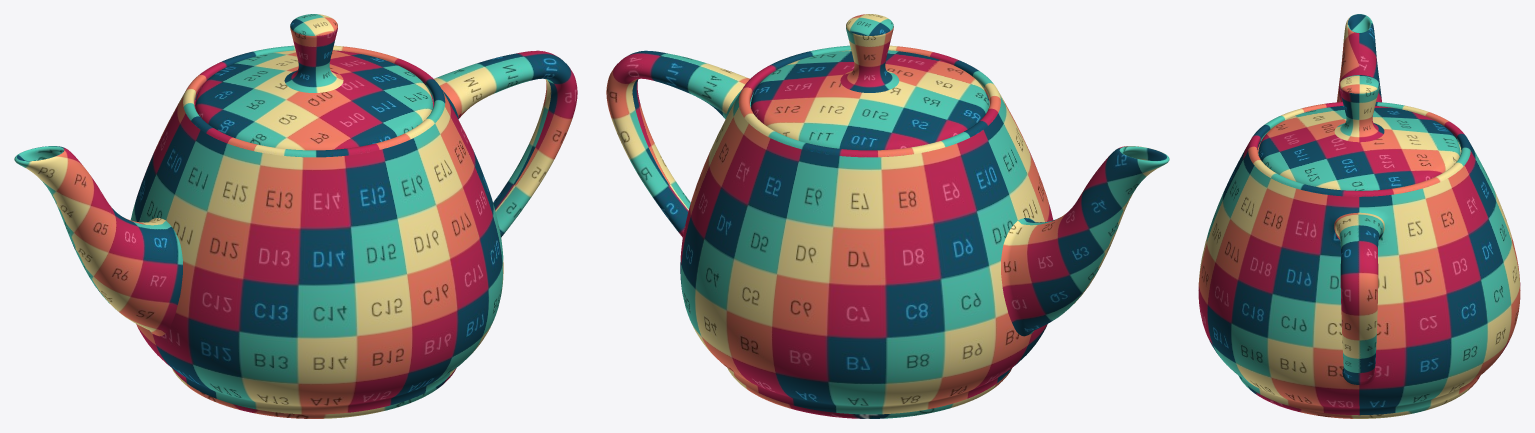
Rendered from teapot.glb.
3 renders of one model, left to right at view 1: azimuth 30°, elevation 25°; view 2: azimuth 150°, elevation 25°; view 3: azimuth 270°, elevation 25°, orthographic. The views are drawn at different scales.
Parts seen in each view (by area): view 1: Object_7, Object_9; view 2: Object_7, Object_9; view 3: Object_7, Object_9.
Boxes of the visible parts, x1,y1,x2,y2 form: Object_7: (14, 45, 577, 418); Object_9: (195, 14, 433, 150); Object_7: (606, 45, 1169, 418); Object_9: (750, 14, 988, 150); Object_7: (1198, 14, 1520, 418); Object_9: (1258, 75, 1460, 190).
Bounding box in the file's own units: 22.17 × 12.97 × 13.07.
Materials: 1 (1 with a texture image).
